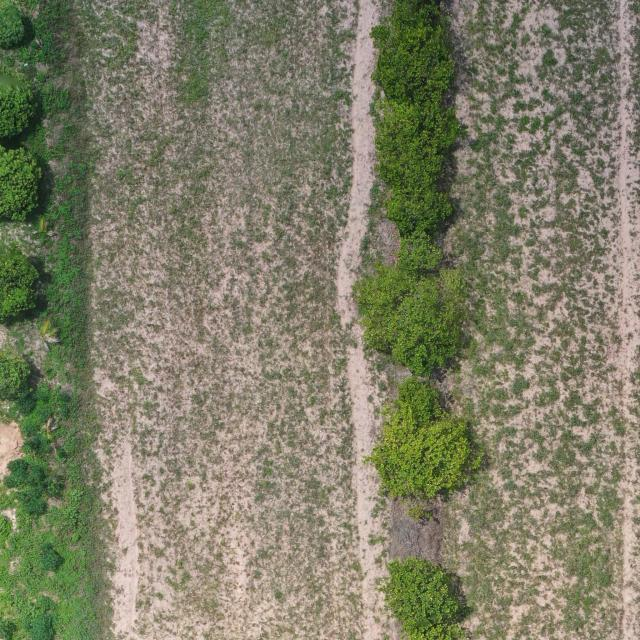tree: (355, 229, 470, 380), (372, 372, 490, 503), (364, 96, 472, 235), (370, 0, 460, 100), (381, 553, 471, 640), (0, 247, 43, 326), (0, 145, 42, 223), (0, 66, 38, 142), (0, 348, 33, 403), (0, 5, 30, 50)
